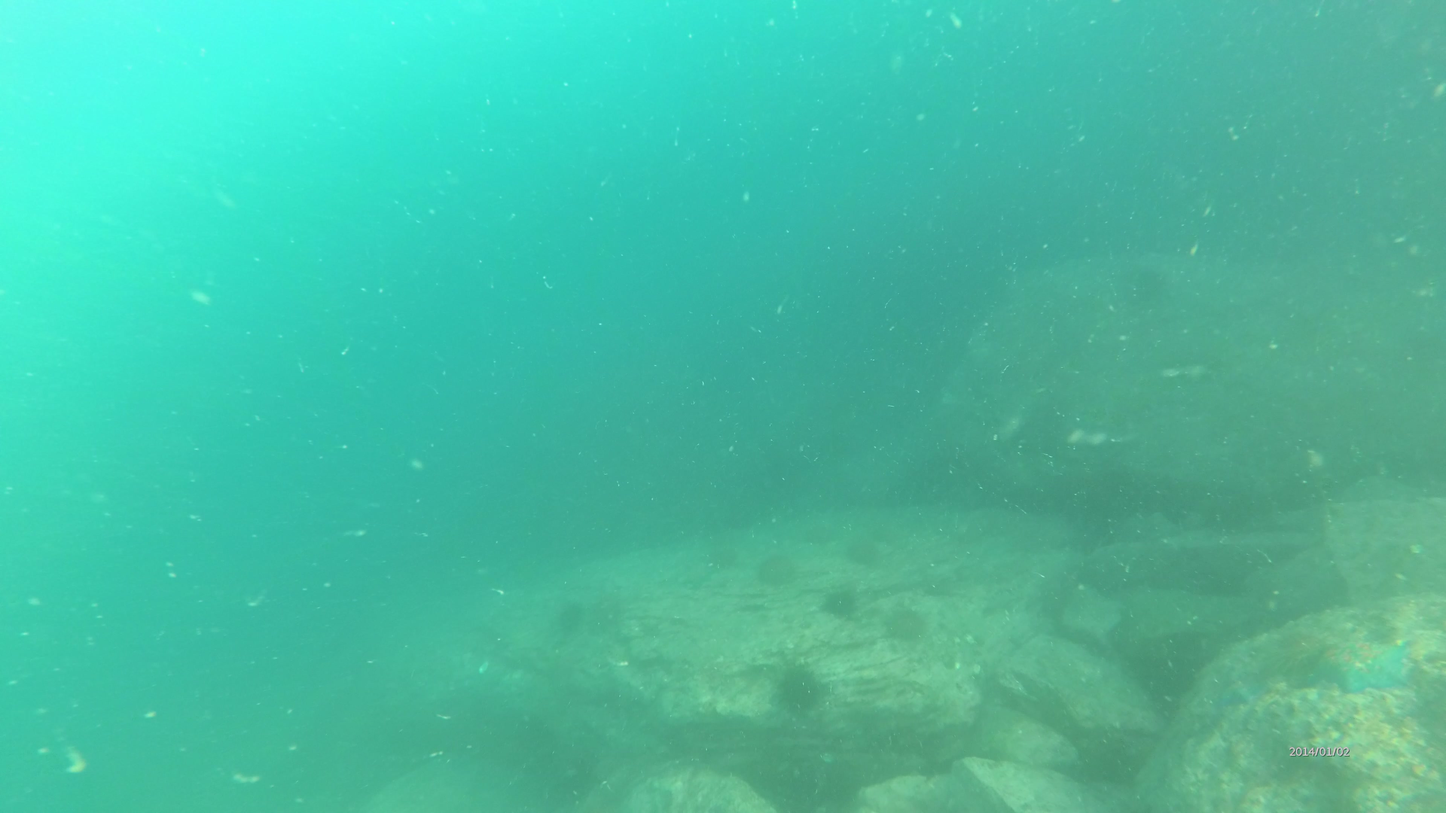holothurian: (1306, 637, 1417, 690)
starfish: (765, 667, 823, 709), (889, 601, 923, 646), (547, 605, 583, 643), (818, 581, 857, 616), (756, 556, 796, 588), (586, 598, 625, 628), (848, 539, 884, 566), (701, 544, 735, 563)
